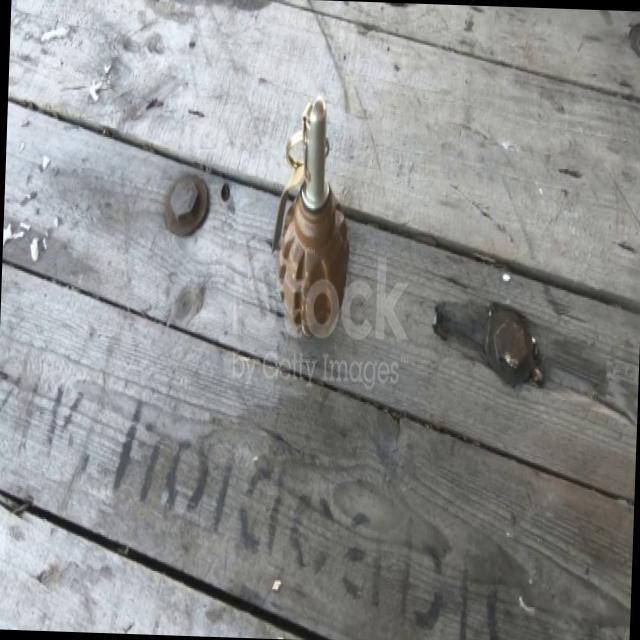grenade: (268, 97, 356, 343)
